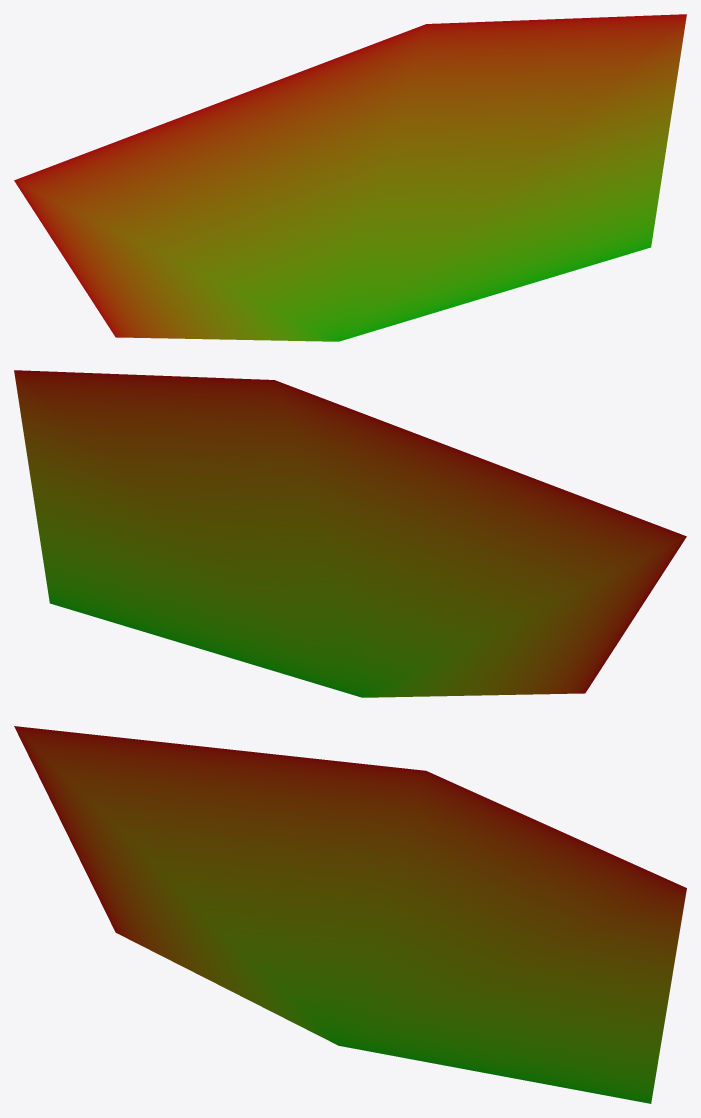
Rendered from Alpine Bearberry_LOD5_Var6_xb0gdazqx.fbx.
3 views of the same model, one above another, from view 1: azimuth 30°, elevation 25°; view 2: azimuth 150°, elevation 25°; view 3: azimuth 330°, elevation 25° (orthographic).
Visible parts, largest first — view 1: _3lyz_Var6_LOD5; view 2: _3lyz_Var6_LOD5; view 3: _3lyz_Var6_LOD5.
Boxes of the visible parts, x1=… form: _3lyz_Var6_LOD5: x1=14, y1=14, x2=686, y2=341; _3lyz_Var6_LOD5: x1=14, y1=370, x2=686, y2=697; _3lyz_Var6_LOD5: x1=14, y1=726, x2=686, y2=1103.
Bounding box in the file's own units: 38.91 × 16.37 × 0.
